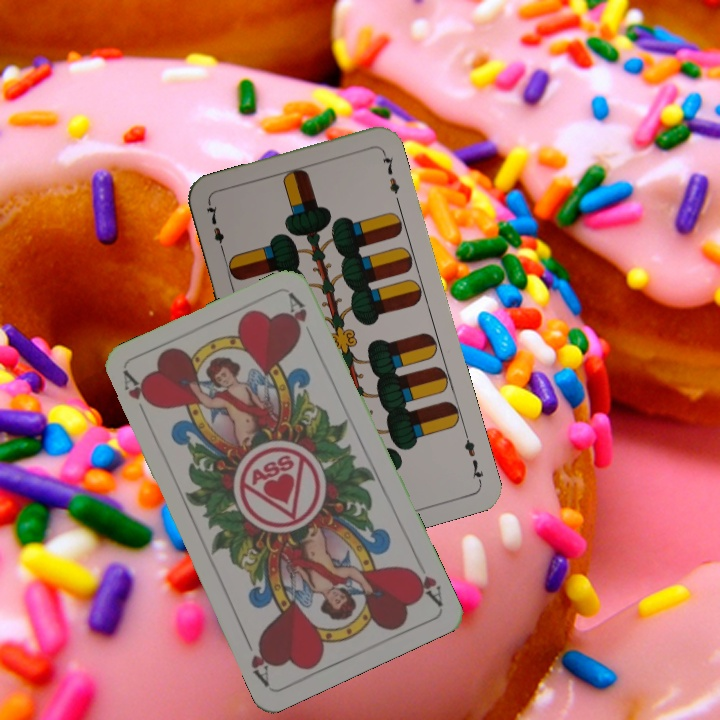E7: (202, 199, 228, 257), (460, 427, 486, 485)
HA: (404, 553, 445, 609), (119, 368, 155, 425)
